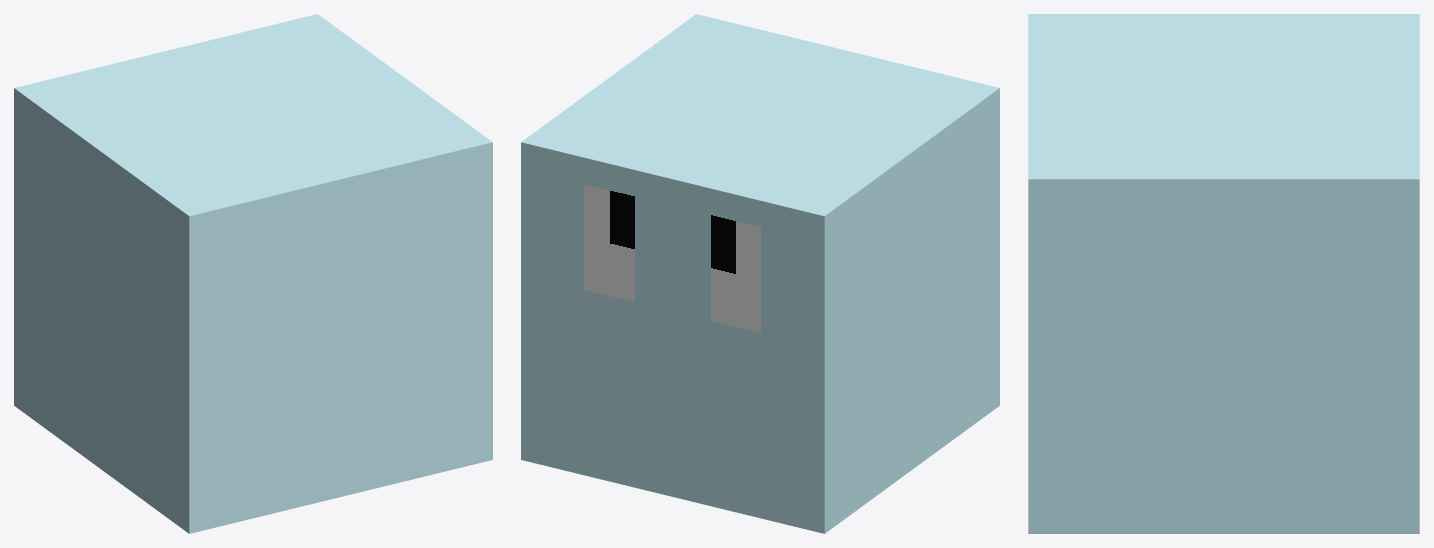
Rendered from planslime.glb.
The picture shows the model from 3 angles, left to right: view 1: azimuth 30°, elevation 25°; view 2: azimuth 150°, elevation 25°; view 3: azimuth 270°, elevation 25°; orthographic projection. The views are drawn at different scales.
Parts seen in each view (by area): view 1: cuboid; view 2: cuboid; view 3: cuboid.
Boxes of the visible parts, box(x1,y1,x2,y2) form: cuboid: box(14, 14, 492, 533); cuboid: box(521, 14, 999, 533); cuboid: box(1028, 14, 1419, 533).
Size of the model in its own units: 0.3125 by 0.3125 by 0.3125.
Materials: 1 (1 with a texture image).
